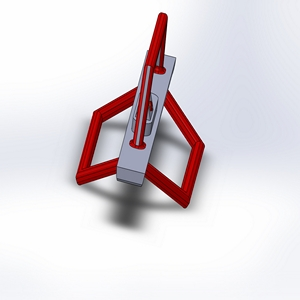submarine: (58, 3, 228, 221)
